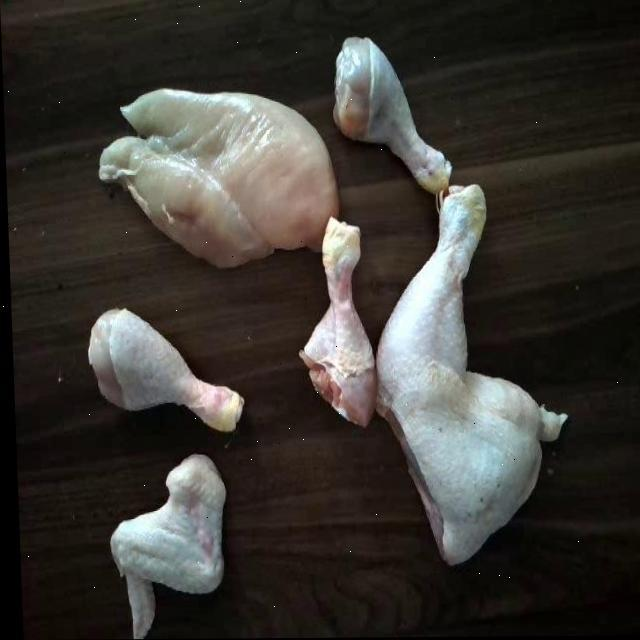breast: (75, 85, 346, 258)
leg: (79, 301, 243, 434), (332, 32, 456, 188), (297, 212, 379, 430)
quater: (360, 186, 569, 567)
wing: (85, 449, 232, 639)
